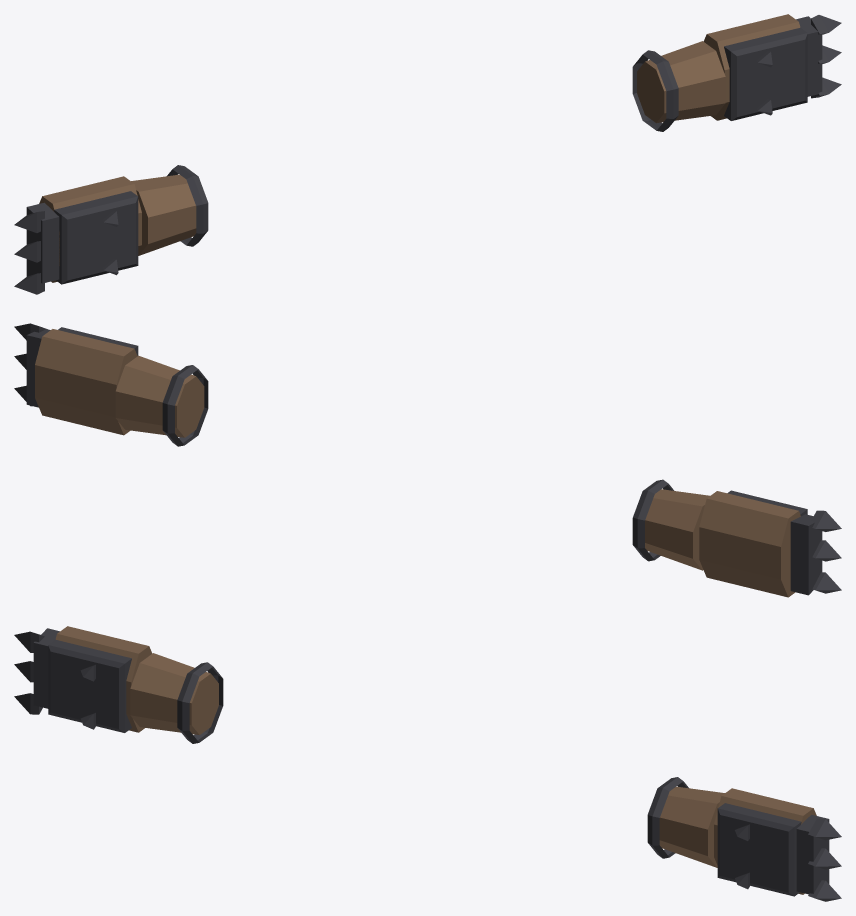
File: obsidianfists.glb
The picture shows the model from 3 angles, top to bottom: view 1: azimuth 30°, elevation 25°; view 2: azimuth 150°, elevation 25°; view 3: azimuth 330°, elevation 25°; orthographic projection.
Parts seen in each view (by area): view 1: Fist1L, Fist1R, LowerArmL, LowerArmR, Fist2R, Fist2L; view 2: Fist1R, Fist1L, LowerArmL, LowerArmR, Fist2R, Fist2L; view 3: Fist1R, Fist1L, LowerArmR, LowerArmL, Fist2L, Fist2R.
Boxes of the visible parts, x1,y1,x2,y2 form: Fist1L: (703, 14, 807, 120); Fist1R: (39, 176, 141, 284); LowerArmL: (632, 41, 725, 131); LowerArmR: (131, 165, 208, 255); Fist2R: (14, 202, 59, 294); Fist2L: (796, 15, 841, 98); Fist1R: (699, 490, 807, 597); Fist1L: (35, 327, 138, 435); LowerArmL: (115, 355, 208, 446); LowerArmR: (632, 479, 709, 570); Fist2R: (790, 510, 841, 595); Fist2L: (14, 323, 50, 407); Fist1R: (48, 626, 152, 732); Fist1L: (714, 788, 816, 896); LowerArmR: (130, 653, 223, 743); LowerArmL: (647, 777, 724, 867); Fist2L: (796, 814, 841, 901); Fist2R: (14, 628, 59, 714).
Bounding box in the file's own units: 3.24 × 0.3097 × 0.2921.
